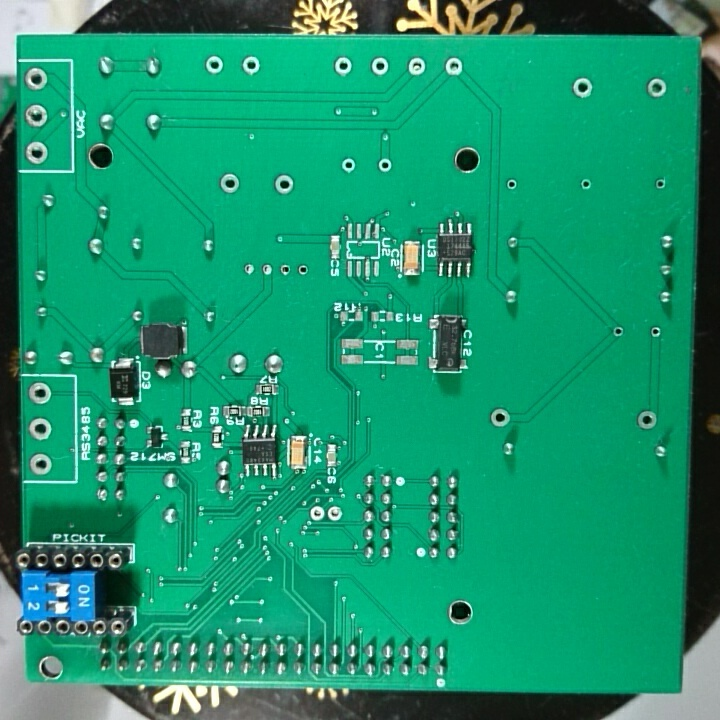F: (23, 101, 52, 129), (569, 74, 598, 102), (22, 66, 50, 94), (486, 404, 514, 432), (23, 139, 51, 166), (26, 417, 54, 443), (239, 53, 265, 80), (634, 406, 659, 434), (27, 380, 53, 406), (644, 75, 670, 101), (442, 53, 467, 80), (28, 451, 54, 476), (202, 52, 226, 79), (218, 170, 242, 195), (367, 55, 391, 80), (333, 54, 354, 80), (271, 172, 294, 195), (337, 154, 359, 178), (406, 54, 428, 78), (502, 175, 522, 195), (325, 503, 345, 523), (651, 175, 671, 194), (307, 503, 325, 524), (295, 260, 311, 282), (609, 323, 628, 341), (377, 154, 394, 174), (258, 260, 275, 280), (276, 260, 293, 280), (241, 260, 259, 278), (647, 323, 664, 340), (578, 175, 594, 193)
